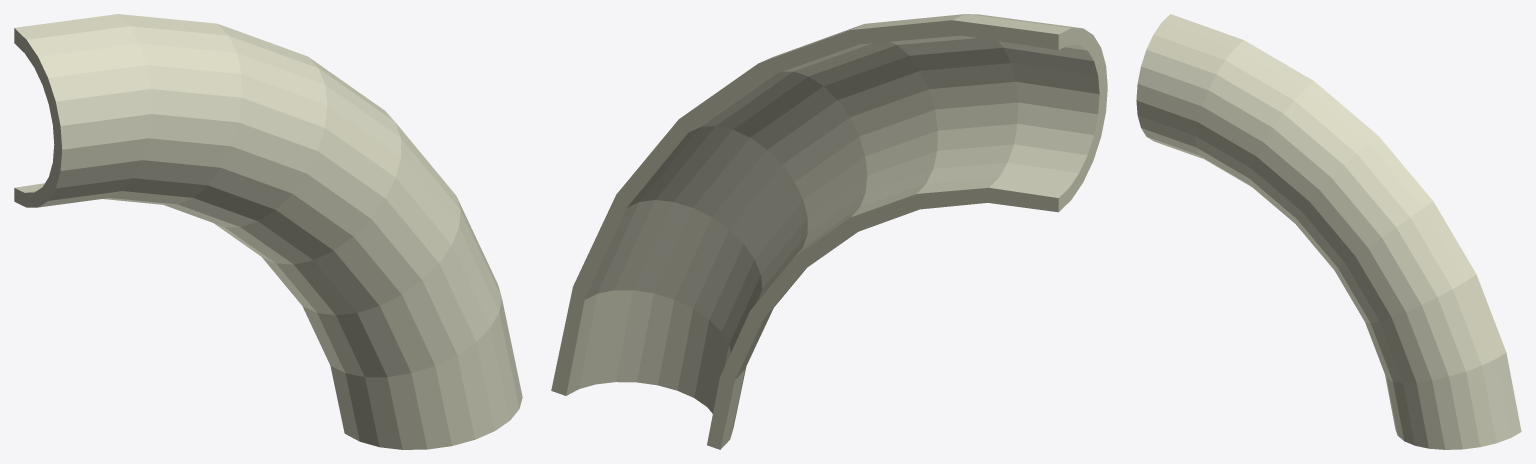
File: section_420.obj
3 renders of one model, left to right at view 1: azimuth 30°, elevation 25°; view 2: azimuth 150°, elevation 25°; view 3: azimuth 330°, elevation 25°, orthographic. The views are drawn at different scales.
Size of the model in its own units: 35.82 by 33.59 by 6.
